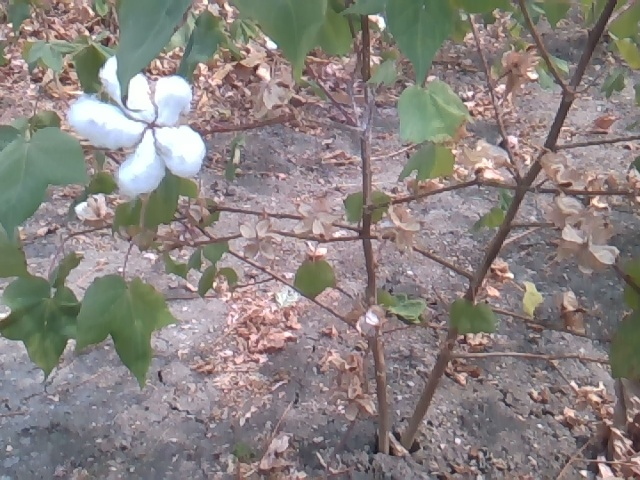cotton: (58, 48, 216, 194)
